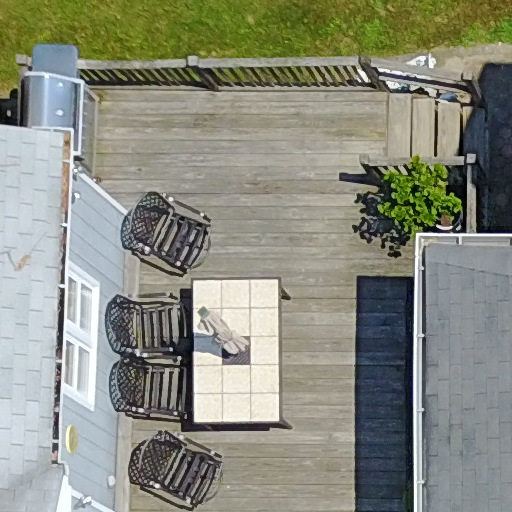porch: (10, 41, 498, 512)
